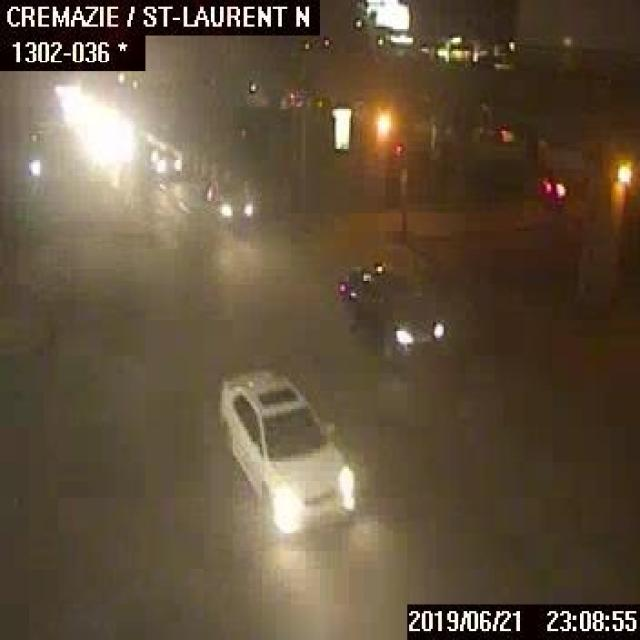vehicle: (215, 369, 352, 531), (337, 262, 448, 356), (202, 171, 258, 225), (434, 33, 471, 63), (473, 43, 511, 67), (149, 147, 180, 171)
